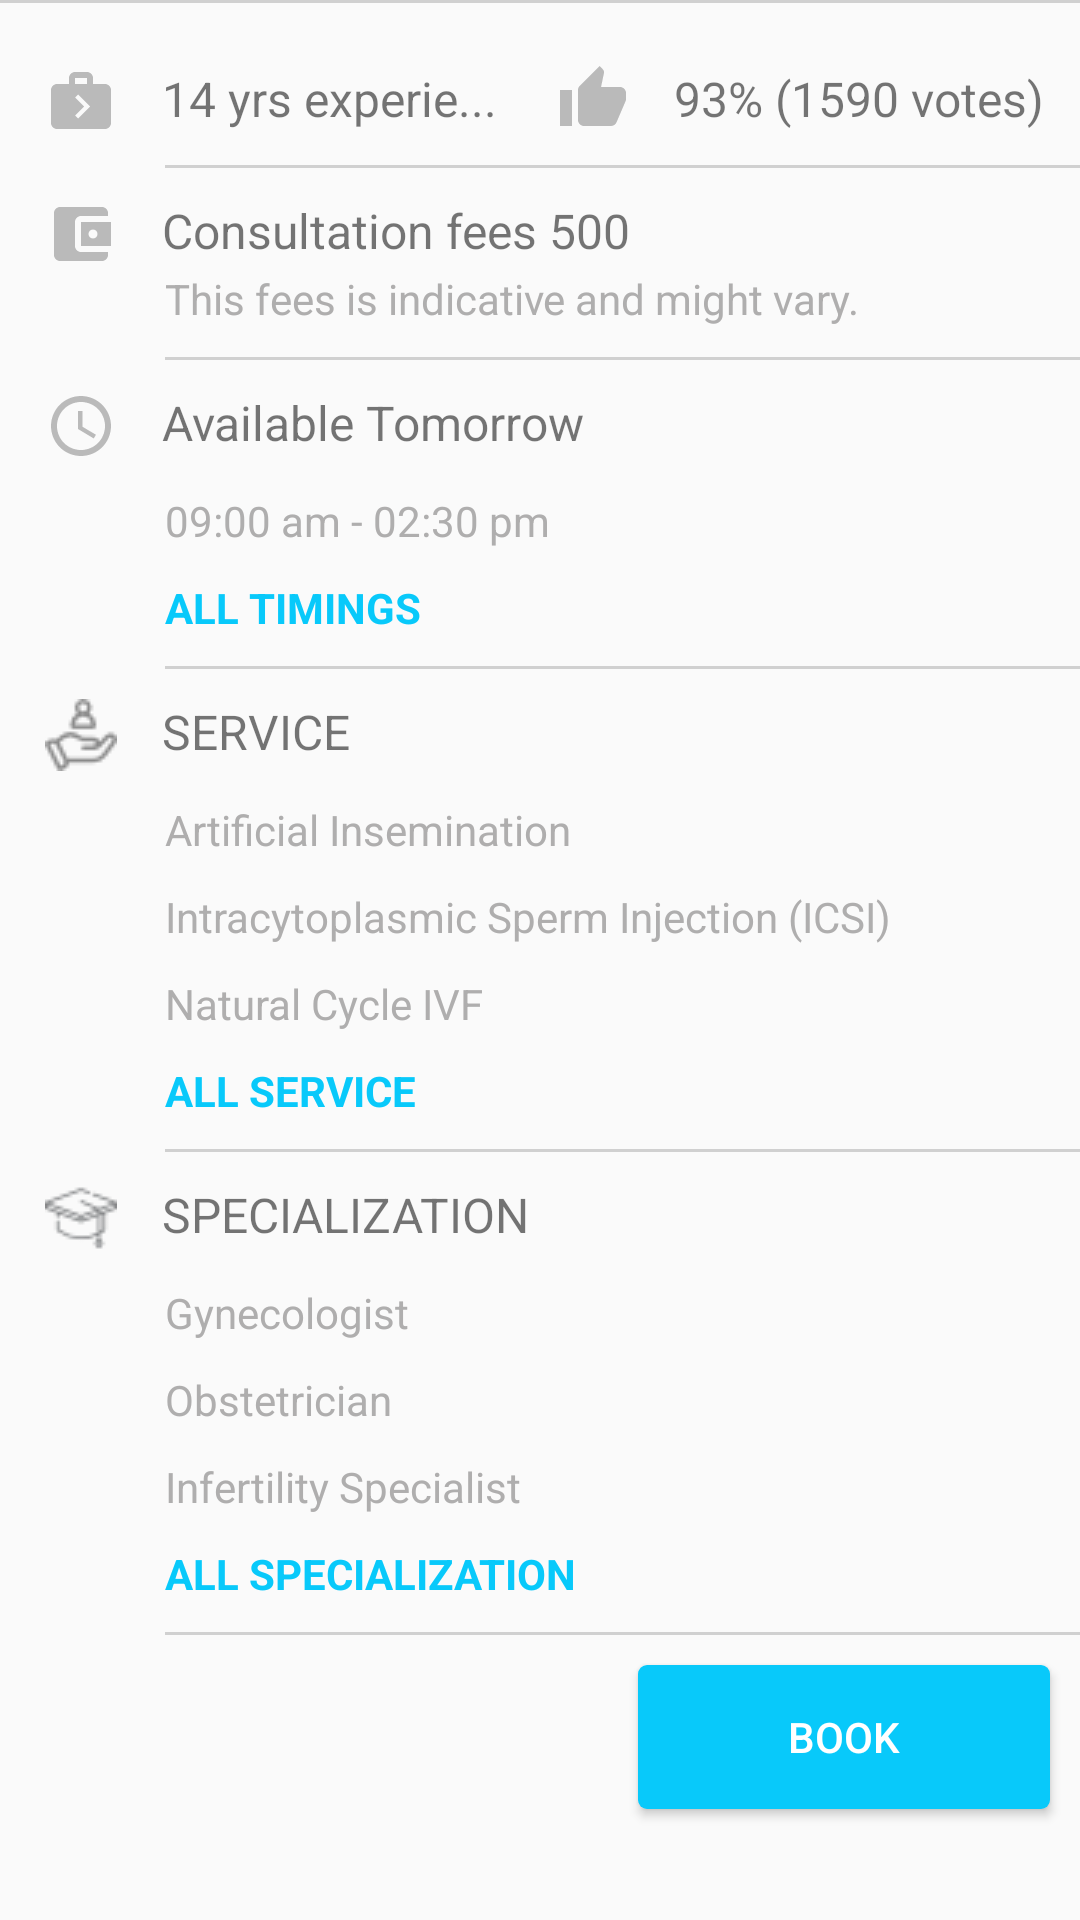

Named icons in this screenshot (1080w x 1920h) and their bounding boxes, (x1, y1, x2, y2):
access time: (51, 396, 111, 456)
account balance wallet: (54, 207, 111, 261)
cap: (45, 1187, 117, 1249)
customers: (45, 699, 117, 771)
next week: (51, 72, 111, 129)
thumb up: (560, 66, 626, 126)
